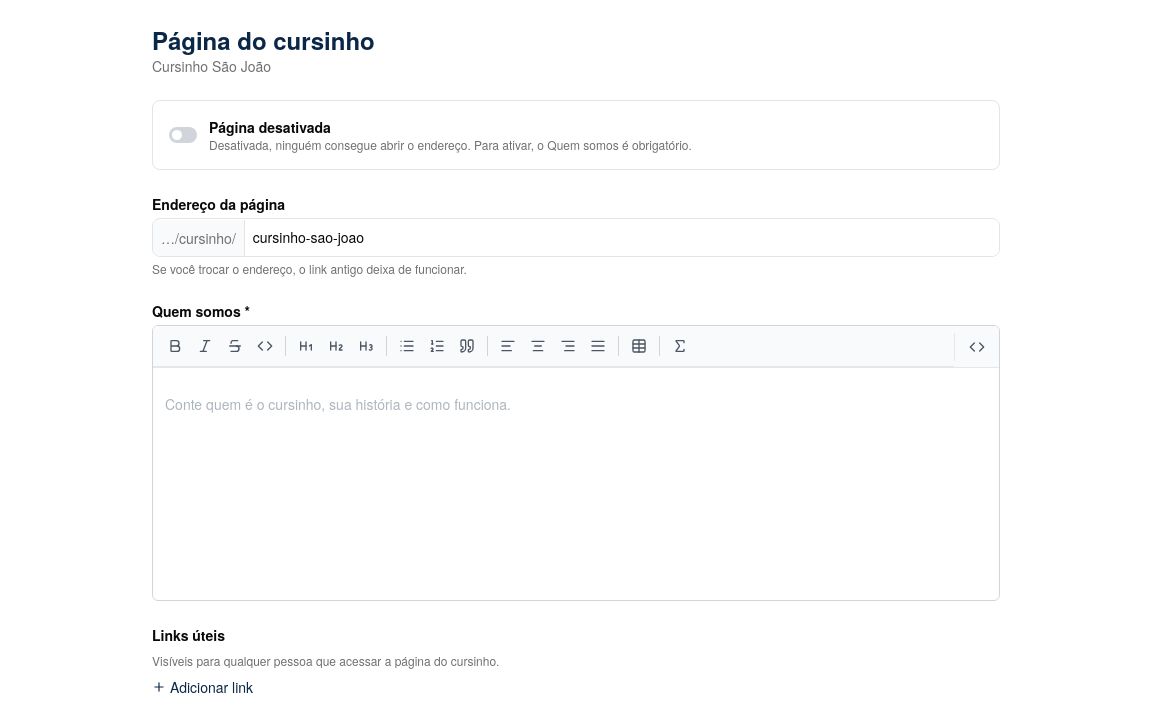
it: Página do cursinho — edição (025 · 06) › normaliza o endereço enquanto digita
The image size is (1152, 720).
Expected: the heading "Página do cursinho" is shown, x1=152 y1=24 x2=375 y2=56
Replace the text in the field labelled "Endereço da página" with "Pré Vestibular " at (622, 238), box x1=245 y1=219 x2=999 y2=256
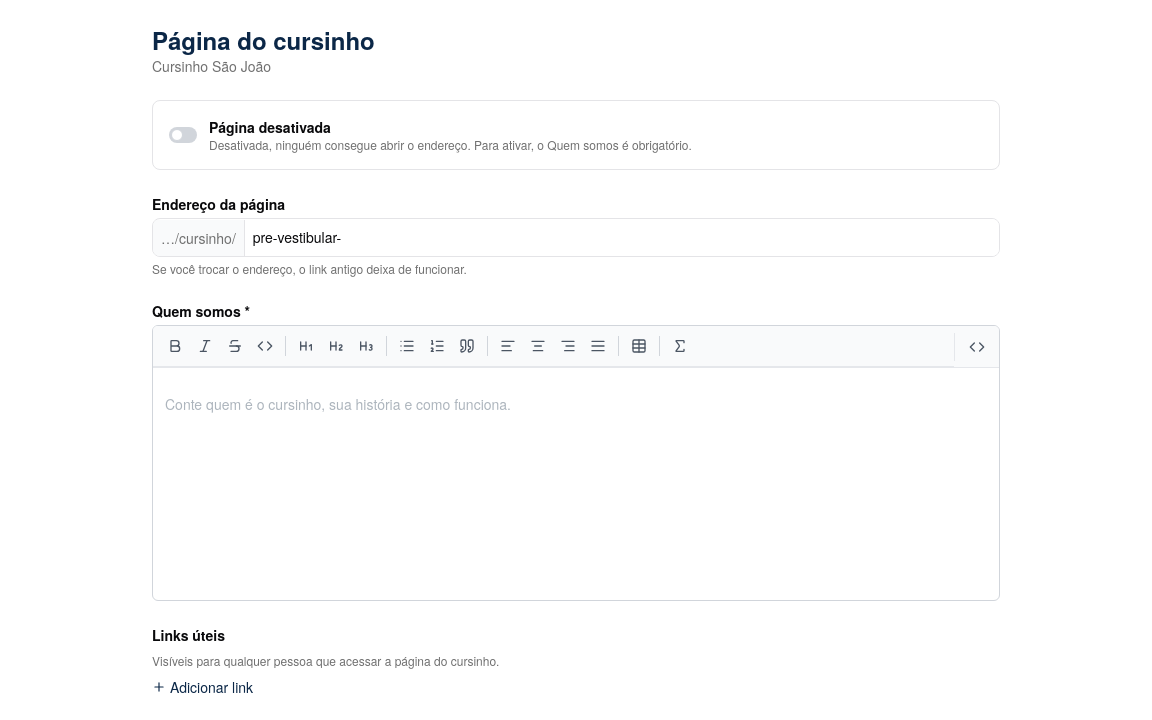
Expected: the field labelled "Endereço da página" holds "pre-vestibular-", x1=245 y1=219 x2=999 y2=256
